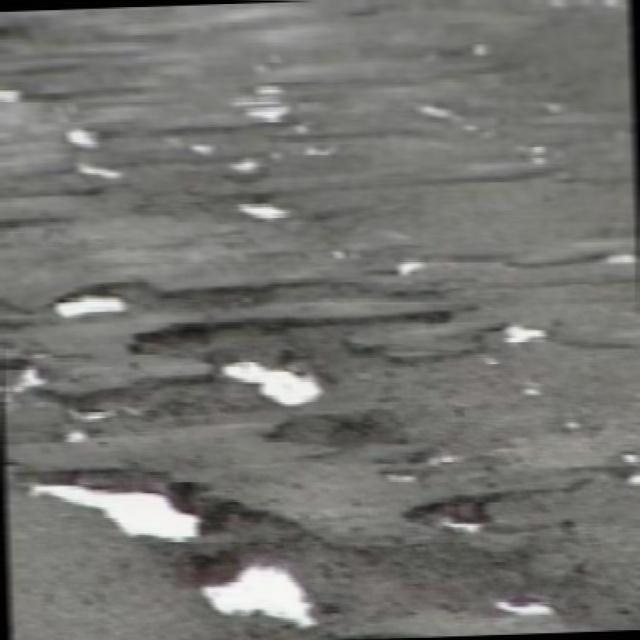Pothole: (3, 453, 271, 547), (130, 316, 370, 412), (48, 272, 399, 325), (175, 534, 346, 640), (260, 404, 447, 456), (399, 476, 506, 552), (45, 120, 148, 195), (474, 568, 576, 633), (168, 124, 278, 184), (0, 346, 67, 423), (210, 190, 310, 238), (372, 299, 468, 339), (232, 83, 304, 128), (0, 207, 81, 244), (285, 128, 344, 168), (564, 239, 640, 270), (0, 80, 36, 107)
